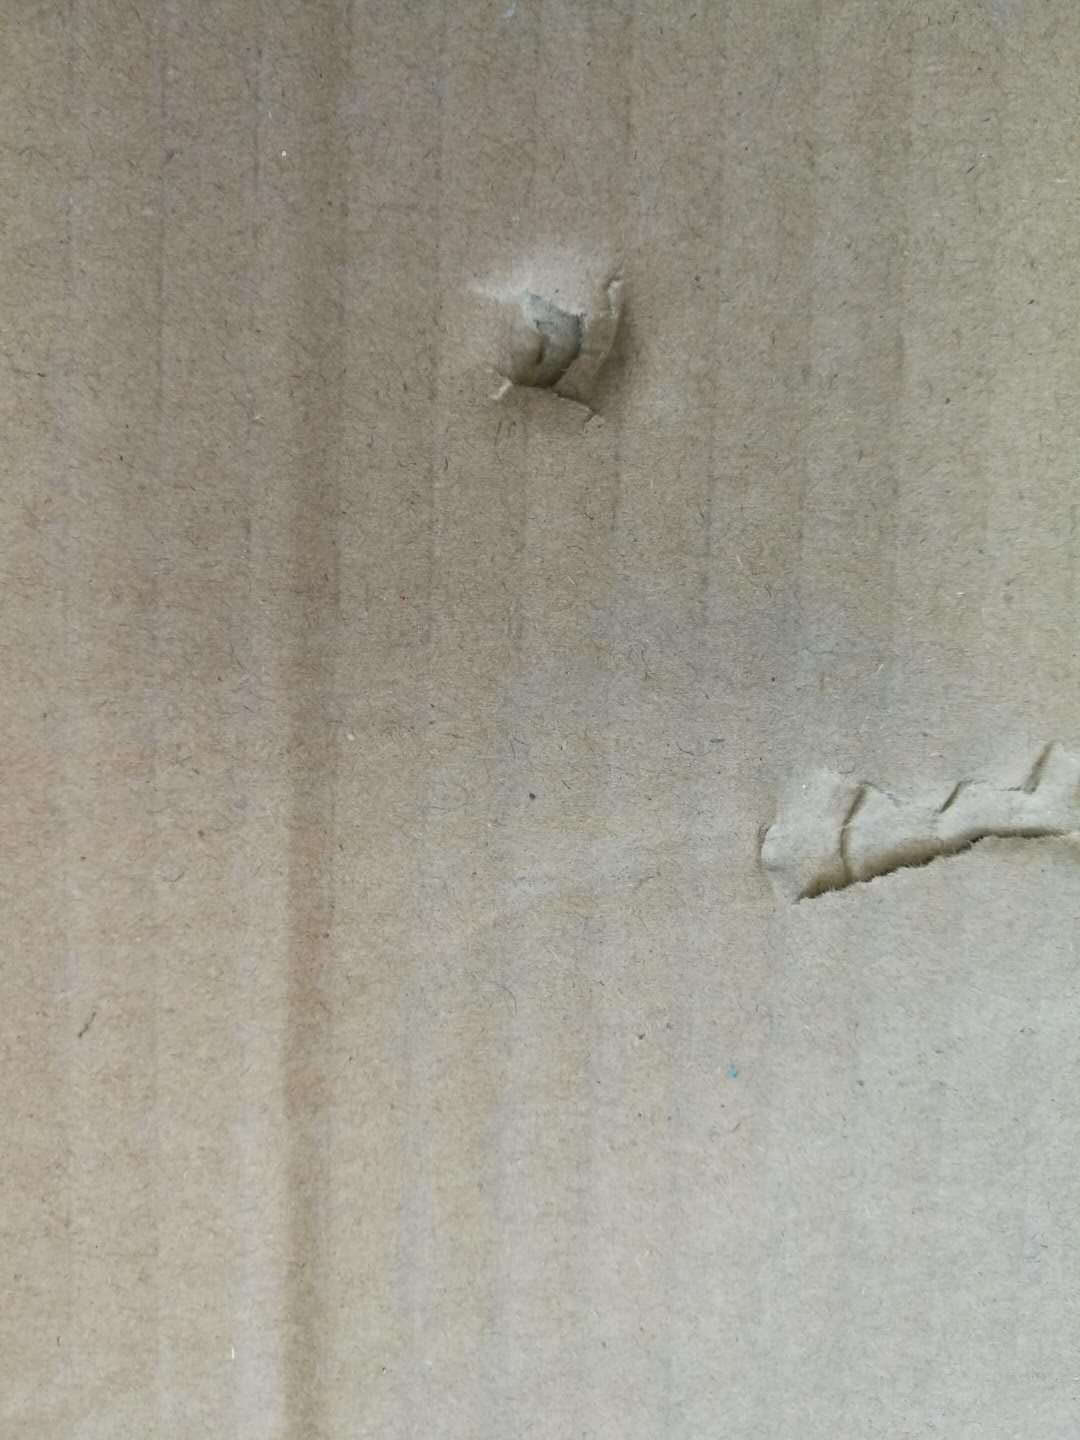defect: (216, 133, 405, 1439), (702, 725, 1080, 924), (428, 207, 699, 484)
